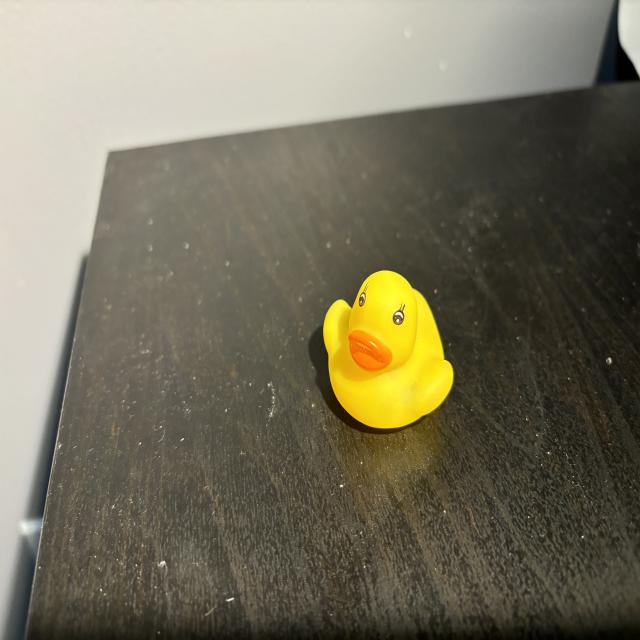duck_regular: (325, 268, 455, 430)
